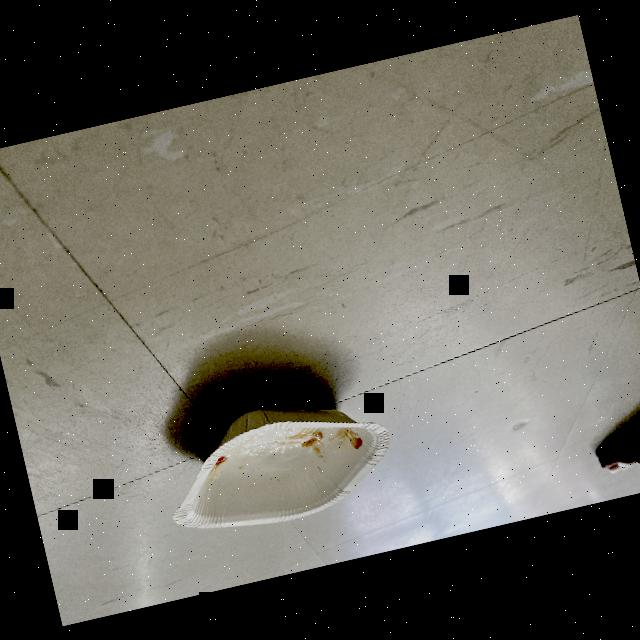cardboard_bowl: (138, 368, 410, 556)
